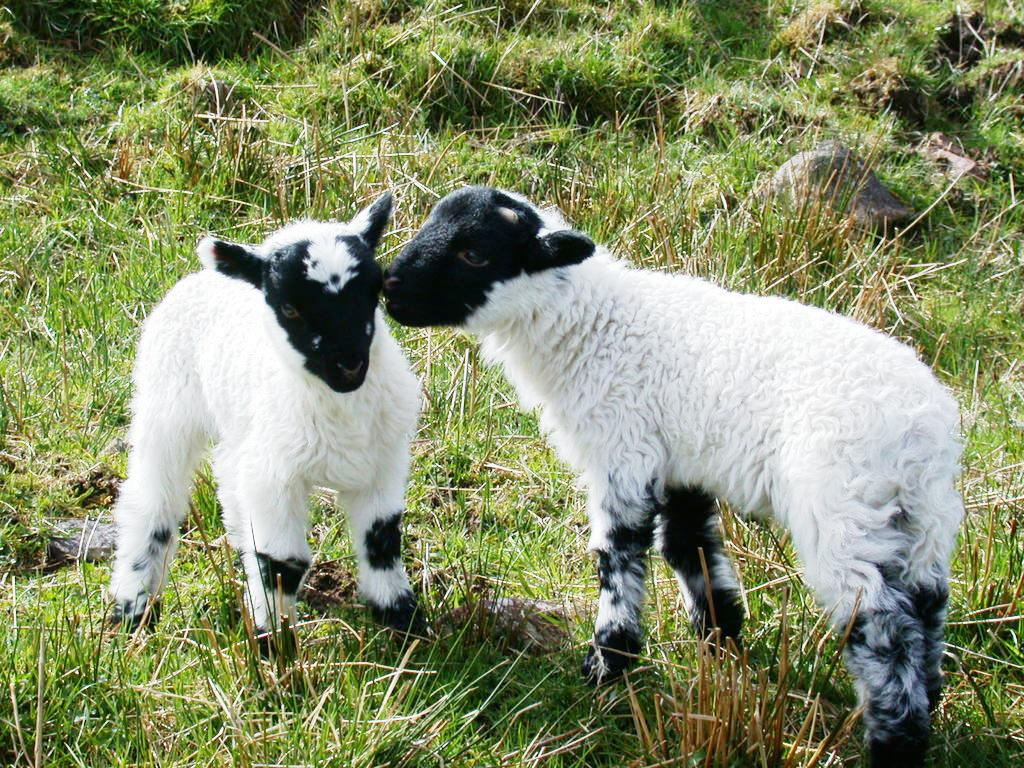Sheep: (382, 186, 964, 768), (110, 189, 420, 672)
